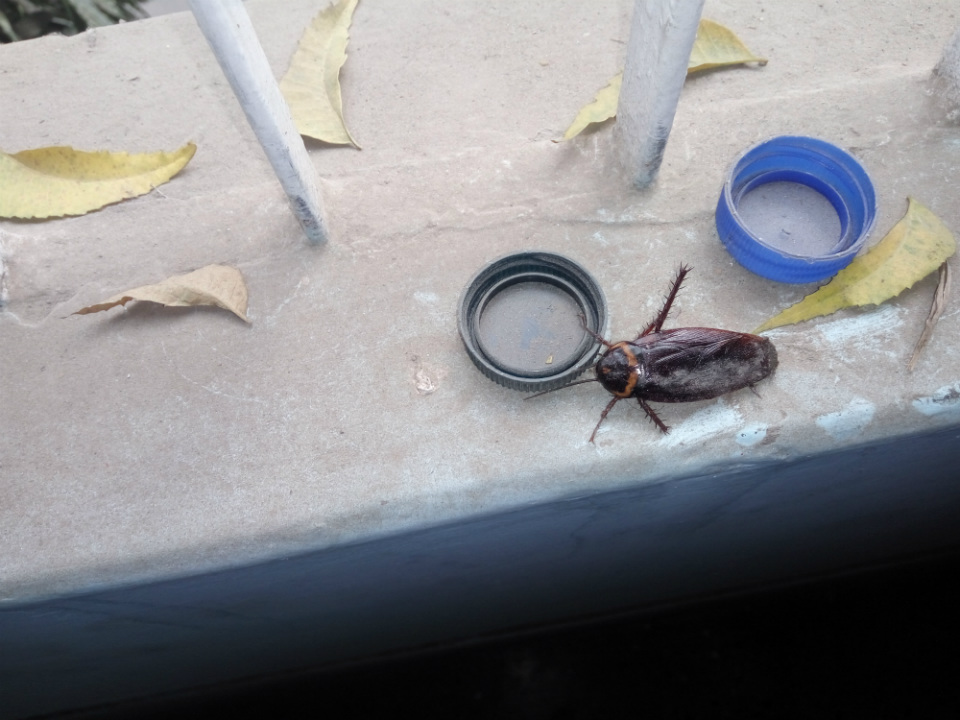cockroach: (444, 238, 787, 456)
